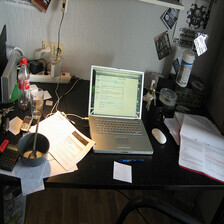laptop: (72, 57, 163, 166)
